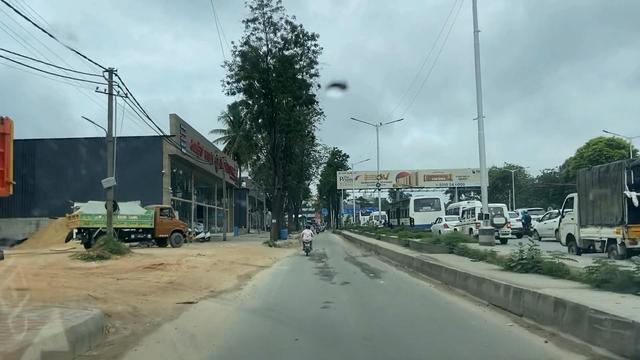RoadDamages: (344, 252, 390, 288), (309, 251, 338, 293)
